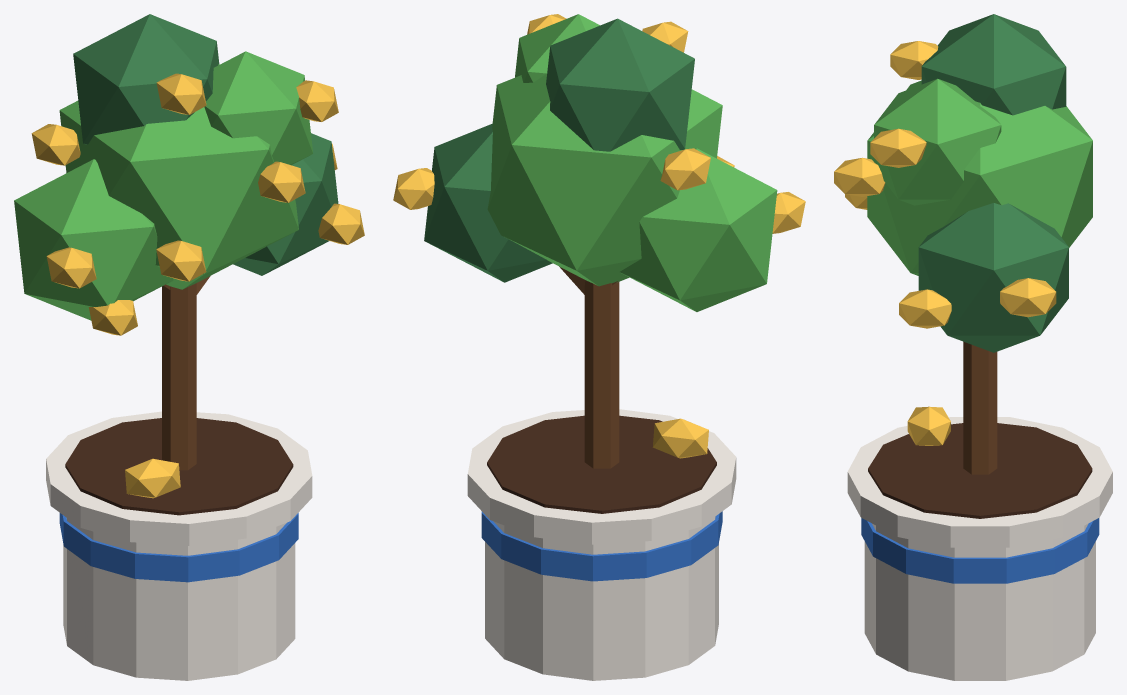
File: CatCafe_Decor_PottedLemonTree.glb
3 views of the same model, side by side, from view 1: azimuth 30°, elevation 25°; view 2: azimuth 150°, elevation 25°; view 3: azimuth 270°, elevation 25° (orthographic). The views are drawn at different scales.
Parts seen in each view (by area): view 1: CatCafe_Decor_PottedLemonTree; view 2: CatCafe_Decor_PottedLemonTree; view 3: CatCafe_Decor_PottedLemonTree.
Boxes of the visible parts, box(x1,y1,x2,y2) form: CatCafe_Decor_PottedLemonTree: box(14, 14, 364, 680); CatCafe_Decor_PottedLemonTree: box(393, 14, 805, 680); CatCafe_Decor_PottedLemonTree: box(834, 14, 1112, 680).
Size of the model in its own units: 2.27 by 3.95 by 1.64.
1 material, 1 textured.
